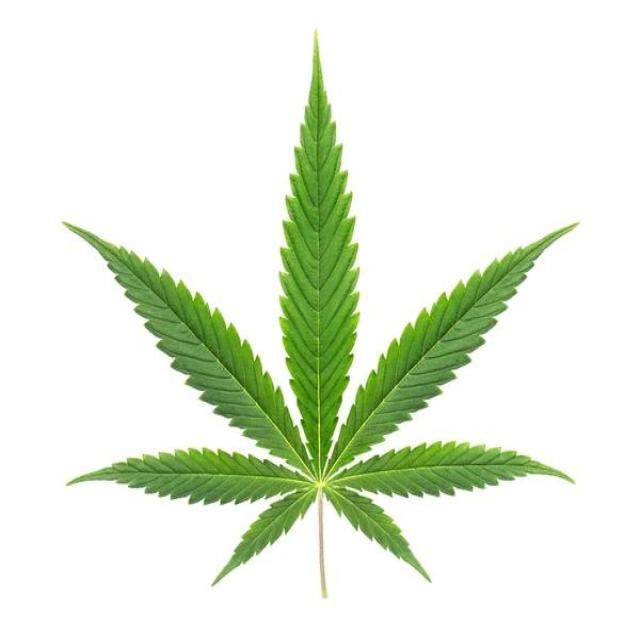cannabis: (65, 28, 580, 600)
